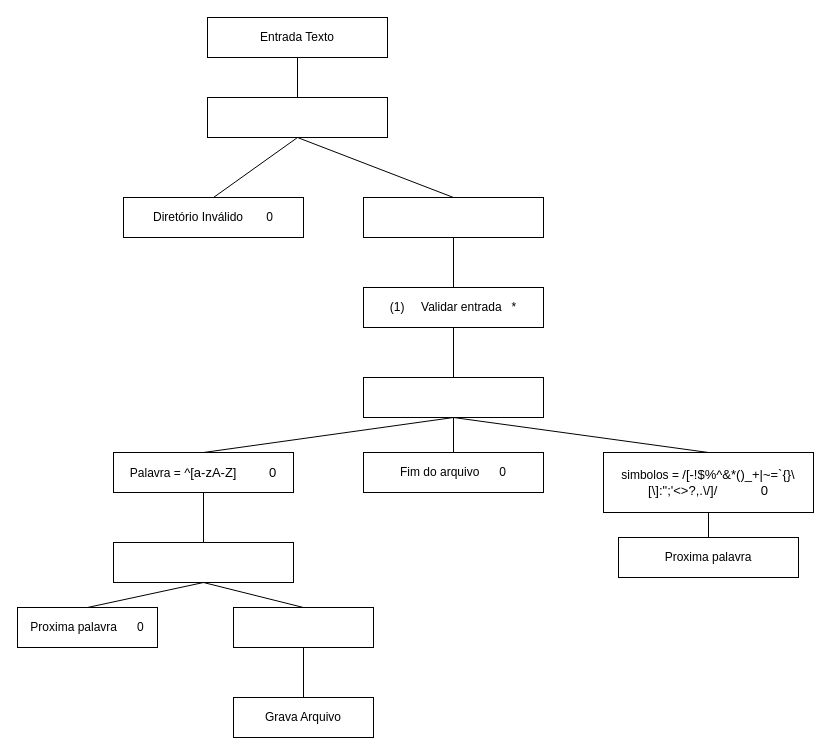
This 831x755 diagram has some shape labels left out. Here are the shapes that lost their labels. From the top down, the centre of each, then its label:
(x=297, y=117): Verificar Diretorio *
(x=453, y=217): Diretório Conhecido 0
(x=453, y=397): Consome a Palavra
(x=203, y=562): Palíndrome?
(x=303, y=627): Print terminal
